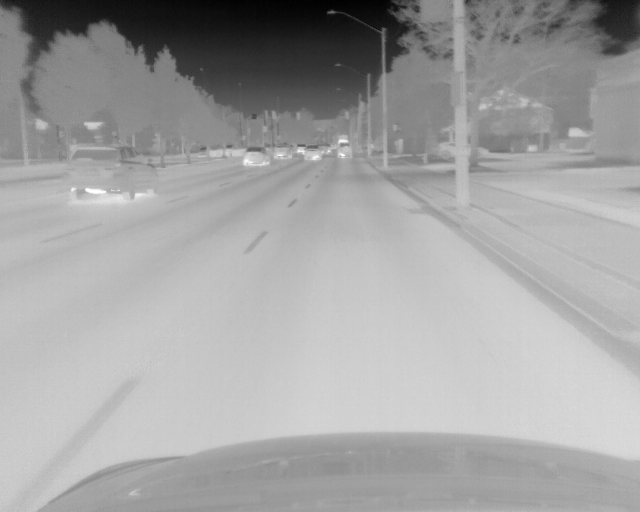car: (67, 144, 163, 203), (434, 141, 489, 161), (242, 148, 271, 168), (270, 141, 291, 161), (304, 144, 322, 163), (336, 139, 351, 161), (319, 143, 330, 157), (294, 142, 305, 155)
